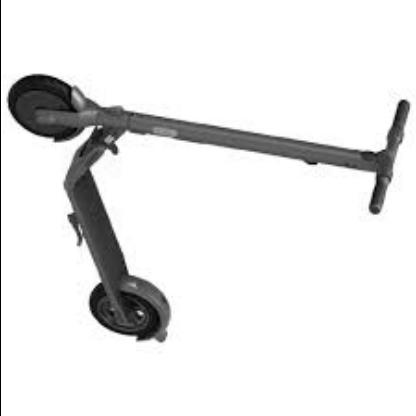bike: (9, 73, 414, 345)
